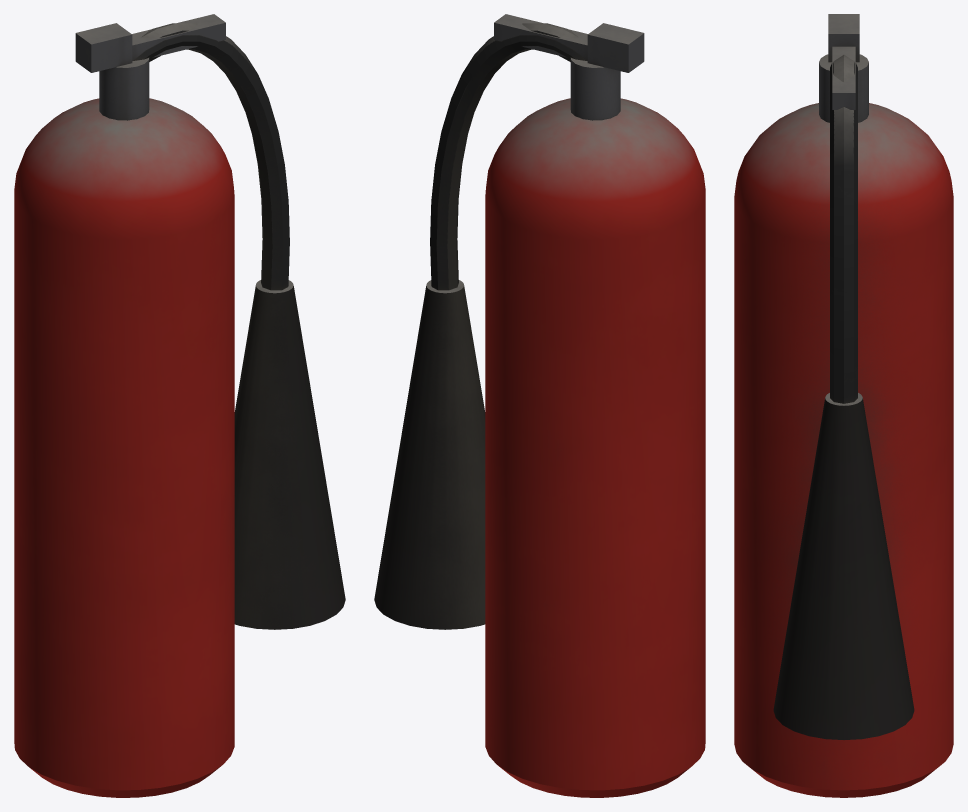
File: SM_FireExtinguisher_OU.fbx
3 views of the same model, side by side, from view 1: azimuth 30°, elevation 25°; view 2: azimuth 150°, elevation 25°; view 3: azimuth 270°, elevation 25° (orthographic).
Parts seen in each view (by area): view 1: SM_FireExtinguisher_OU; view 2: SM_FireExtinguisher_OU; view 3: SM_FireExtinguisher_OU.
Boxes of the visible parts, left/top/right/bottom form: SM_FireExtinguisher_OU: left=14, top=14, right=345, bottom=797; SM_FireExtinguisher_OU: left=374, top=14, right=705, bottom=797; SM_FireExtinguisher_OU: left=734, top=14, right=953, bottom=797.
Bounding box in the file's own units: 0.225 × 0.51 × 0.14.
Materials: 1 (1 with a texture image).
